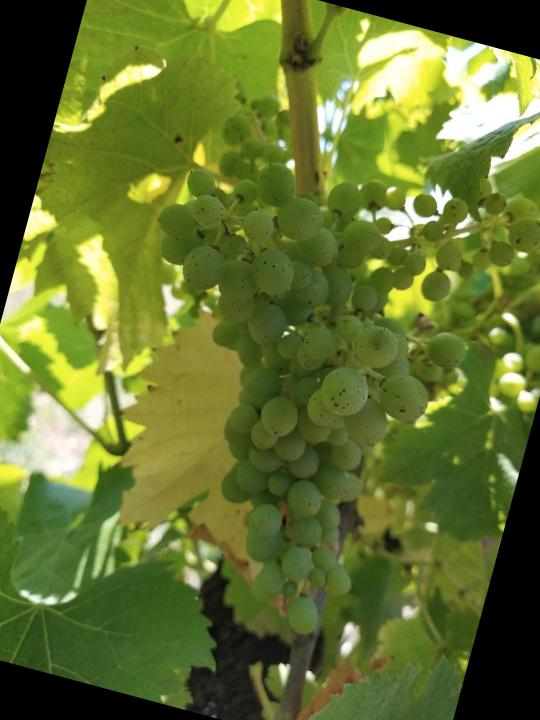grape: (63, 100, 540, 672)
